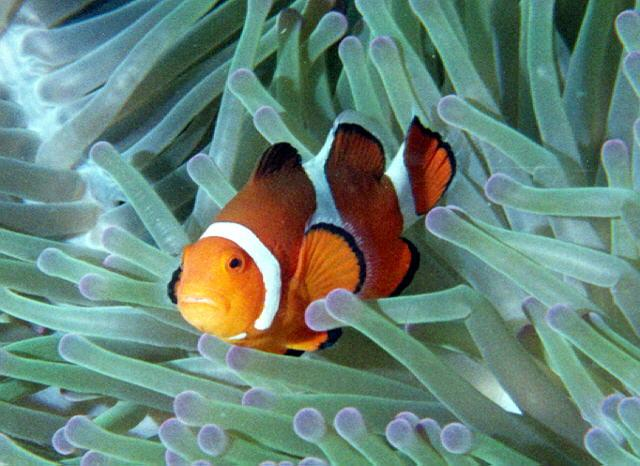Mulut: (156, 276, 232, 340)
Sirip Anal: (370, 223, 434, 313)
Sirip Dada: (284, 205, 374, 307)
Sirip Ekor: (394, 109, 466, 222), (272, 322, 346, 364)
Sirip Punggung: (240, 105, 390, 193)
